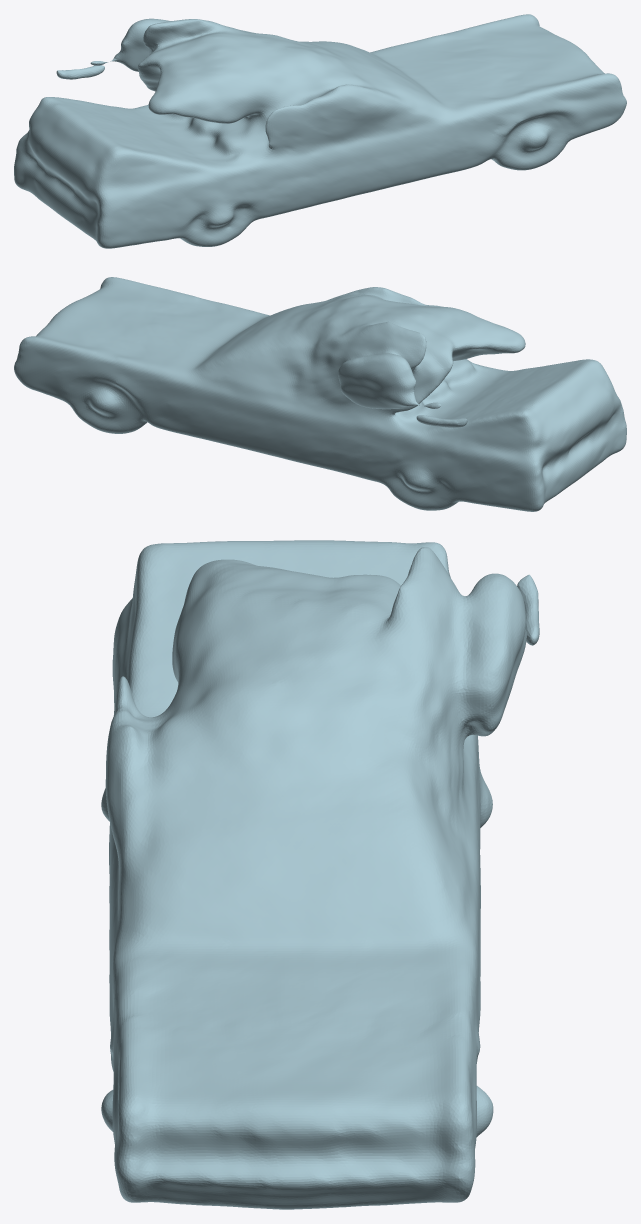
File: levelsetudf_long_car.glb
3 views of the same model, one above another, from view 1: azimuth 30°, elevation 25°; view 2: azimuth 150°, elevation 25°; view 3: azimuth 270°, elevation 25° (orthographic). The views are drawn at different scales.
Parts seen in each view (by area): view 1: levelsetudf_long_car.ply; view 2: levelsetudf_long_car.ply; view 3: levelsetudf_long_car.ply.
Part boxes in pixels (x1=…): levelsetudf_long_car.ply: x1=14, y1=14, x2=626, y2=248; levelsetudf_long_car.ply: x1=14, y1=277, x2=626, y2=511; levelsetudf_long_car.ply: x1=101, y1=540, x2=539, y2=1209.
Bounding box in the file's own units: 1.02 × 0.3063 × 0.3633.
